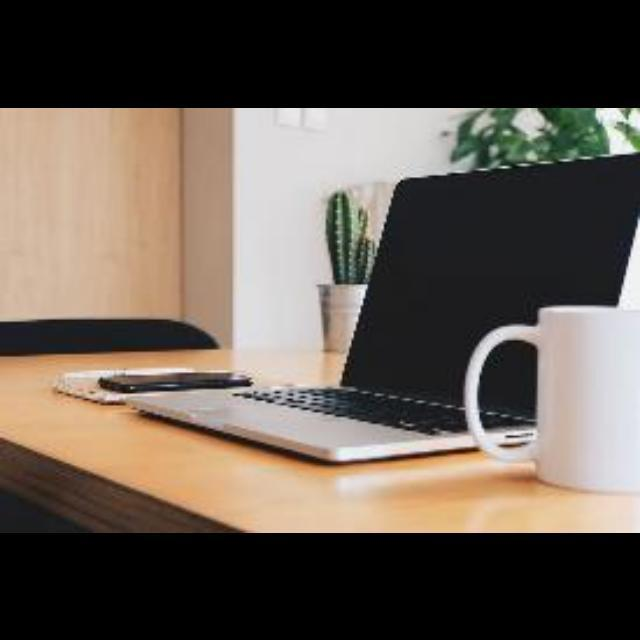PhoneUse: (101, 366, 252, 392)
